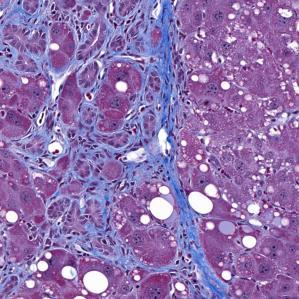fibrosis: (74, 122, 179, 196), (76, 15, 178, 72), (179, 243, 229, 299)
